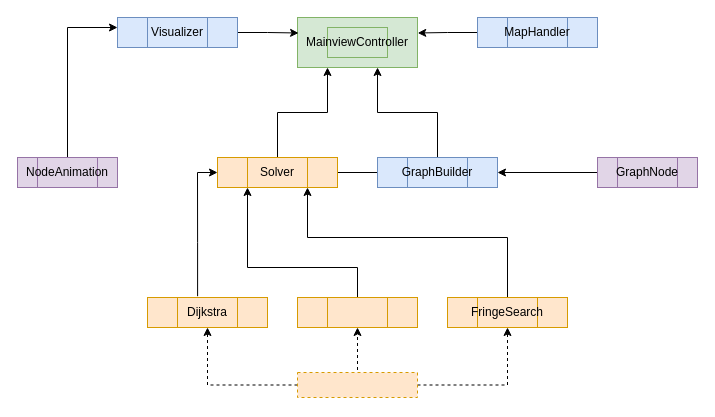
Image size: 715x417. Some labels were removed from this diagram. Each missing label, with the centre of its shape:
AStar: the point at 357,312
Calculable: the point at 357,385
